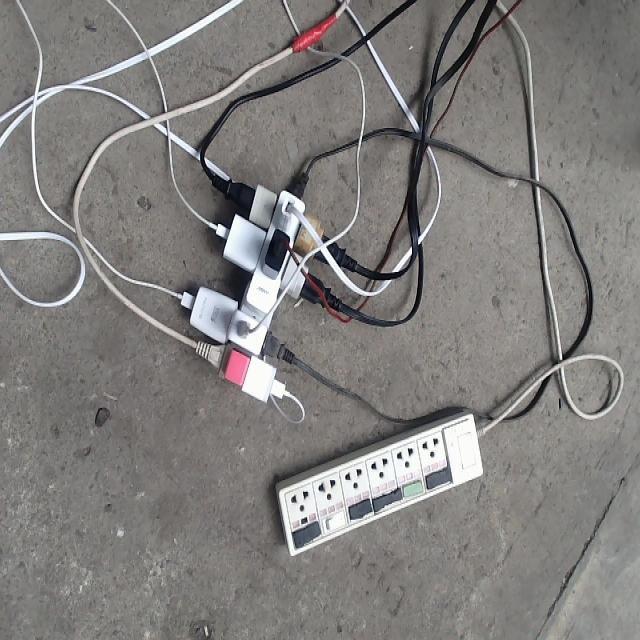-: (177, 172, 337, 403)
